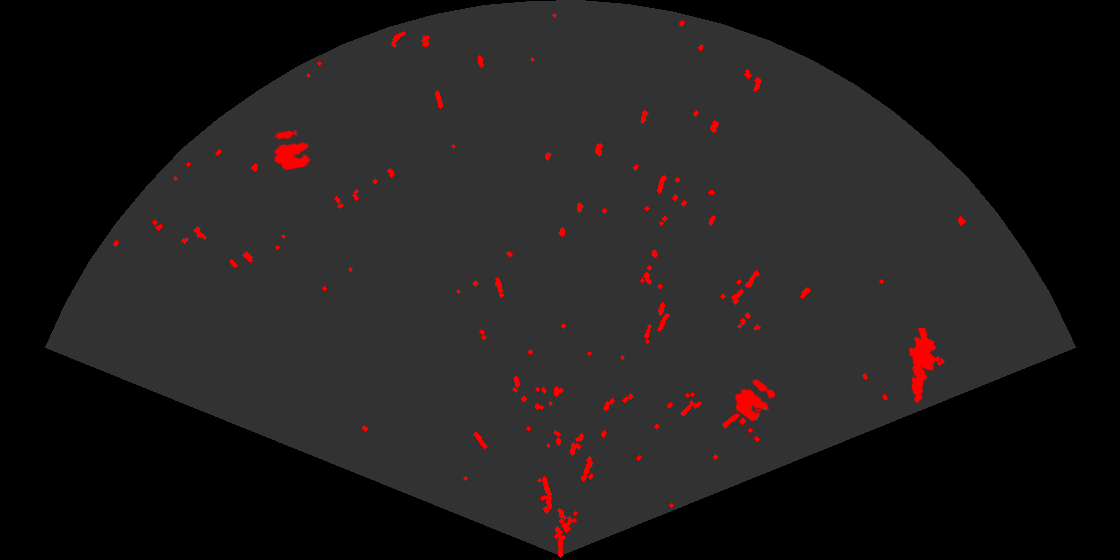ball: (733, 377, 777, 423), (272, 128, 312, 172)
frogman: (907, 328, 941, 405)
